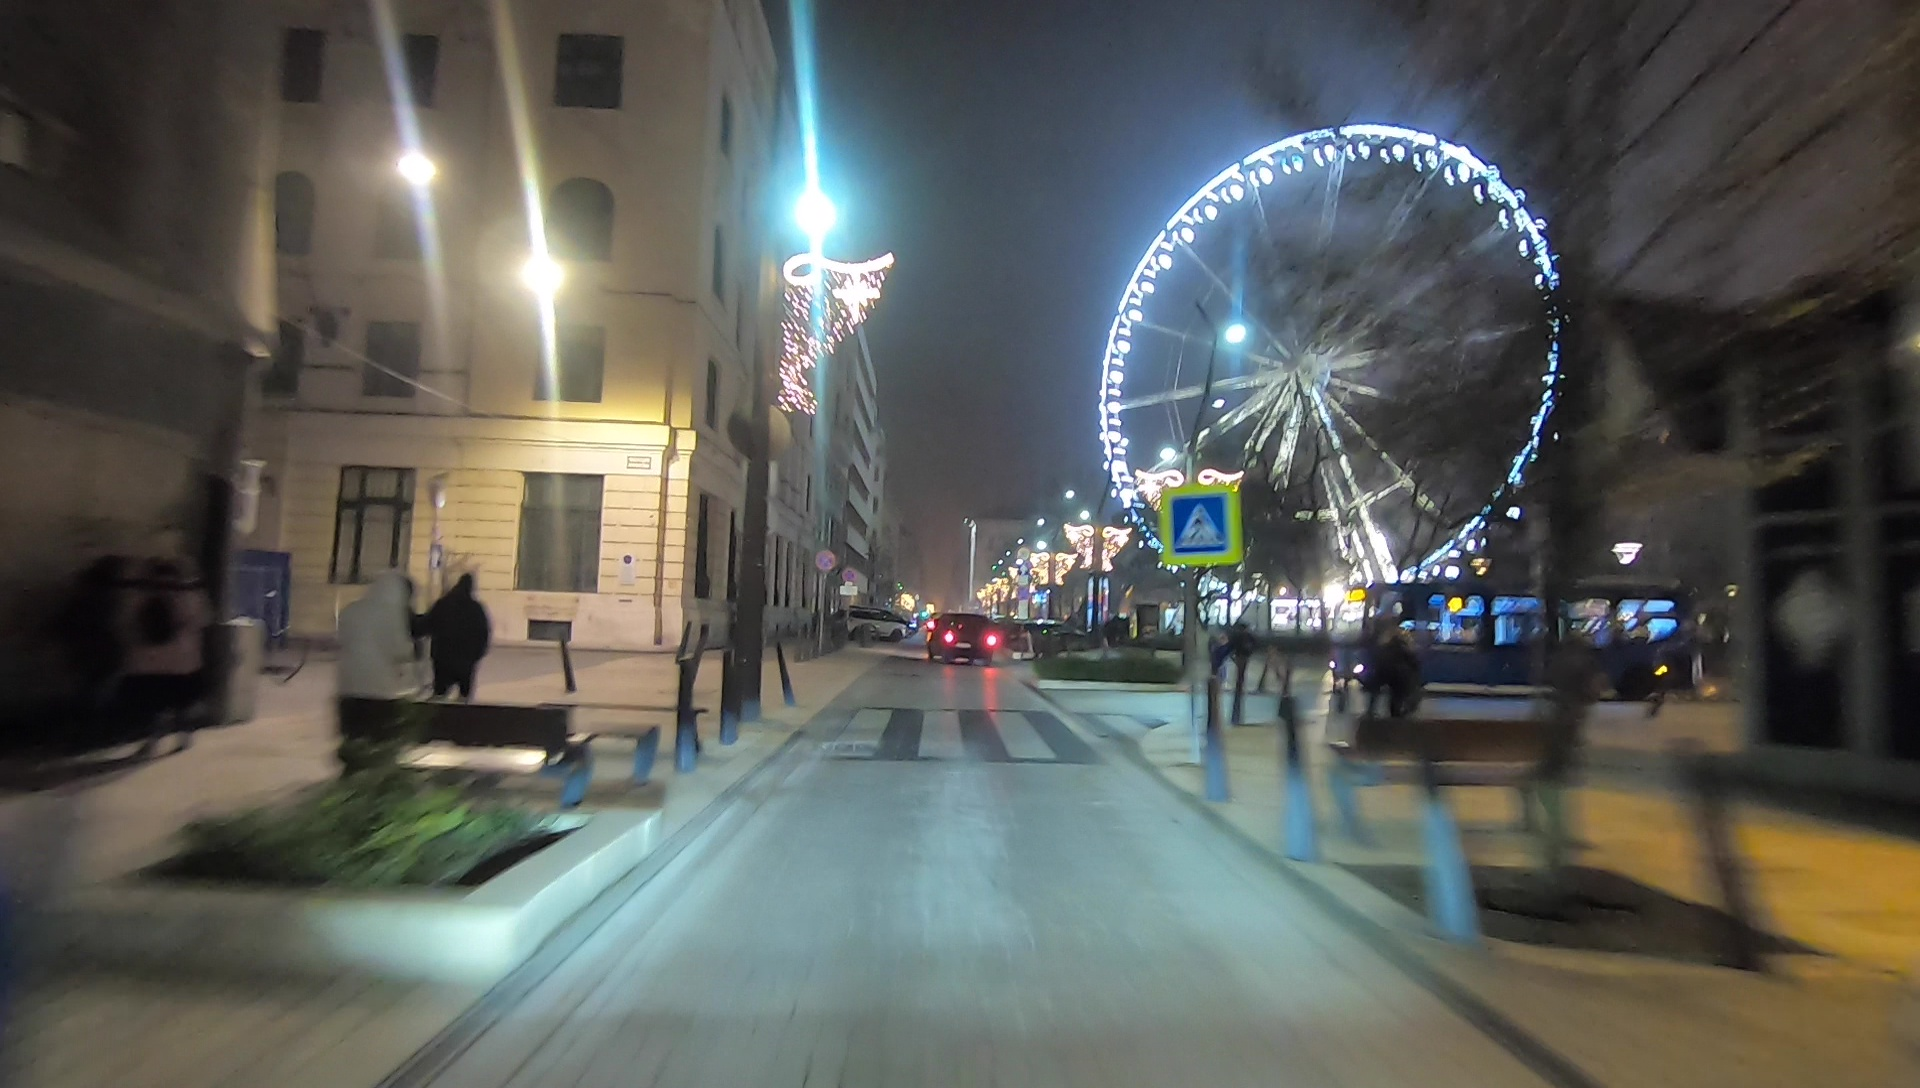person: (121, 528, 214, 765), (323, 561, 421, 771), (425, 565, 486, 743), (1371, 619, 1415, 732)
